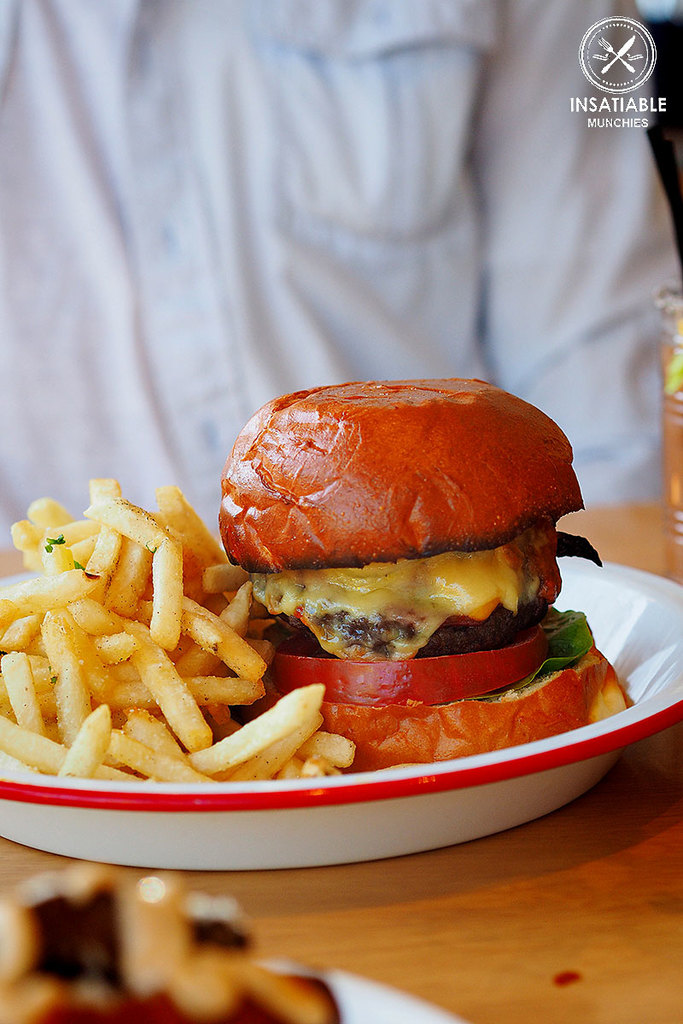French fries: (7, 468, 321, 786)
